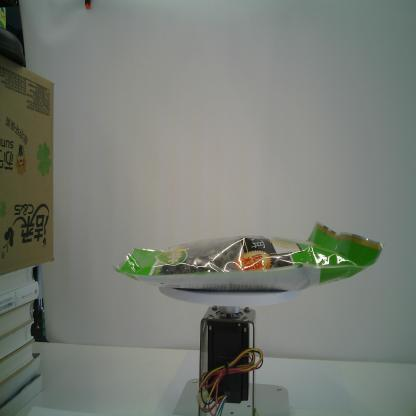Dried Food: (112, 219, 385, 292)
